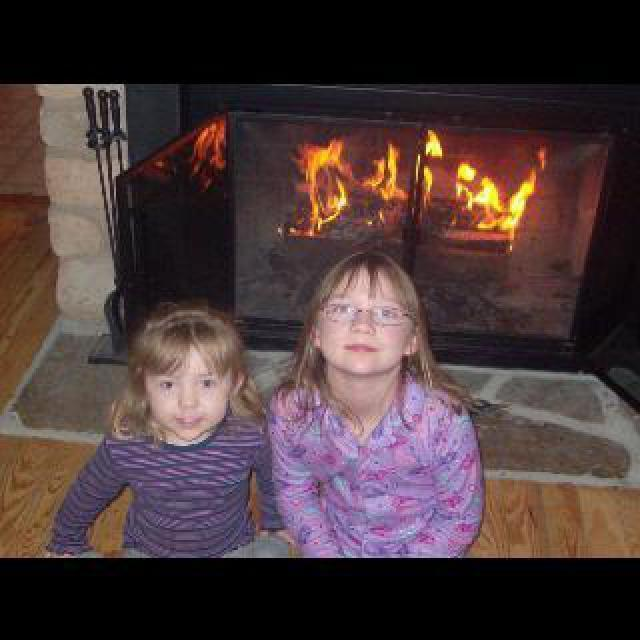Fire: (276, 124, 550, 248), (166, 110, 230, 186)
